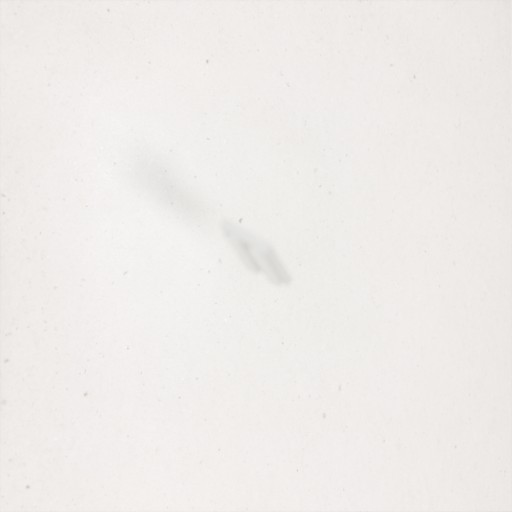lego: (218, 216, 294, 288)
